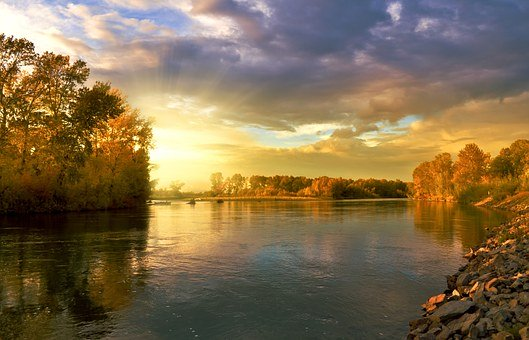lake: (13, 194, 476, 334)
sky: (107, 1, 515, 162)
tree: (1, 36, 146, 206)
